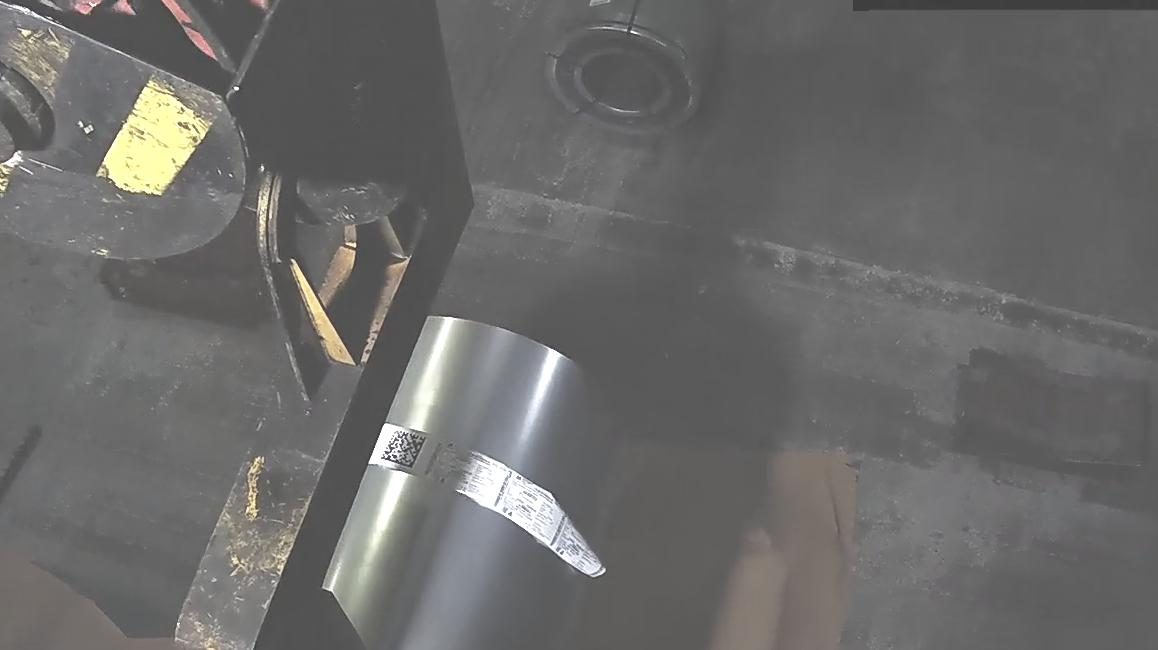data matrix: (380, 427, 430, 471)
